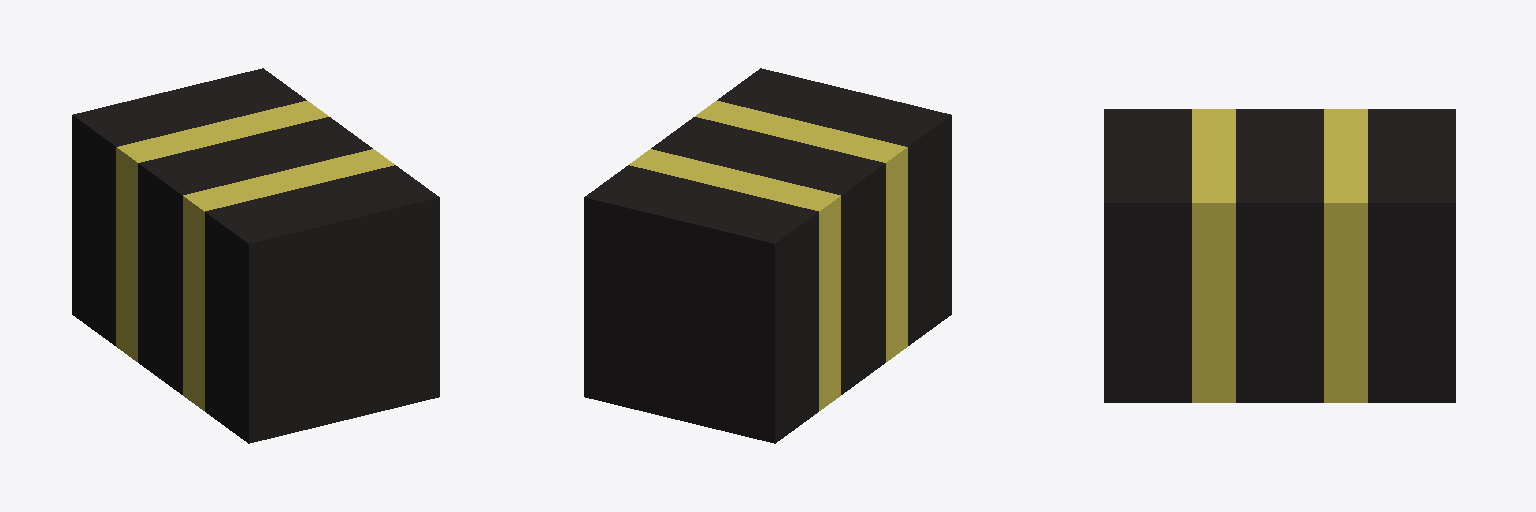
File: border_box.obj
3 views of the same model, side by side, from view 1: azimuth 30°, elevation 25°; view 2: azimuth 150°, elevation 25°; view 3: azimuth 270°, elevation 25° (orthographic).
Bounding box in the file's own units: 1 × 1 × 1.6.